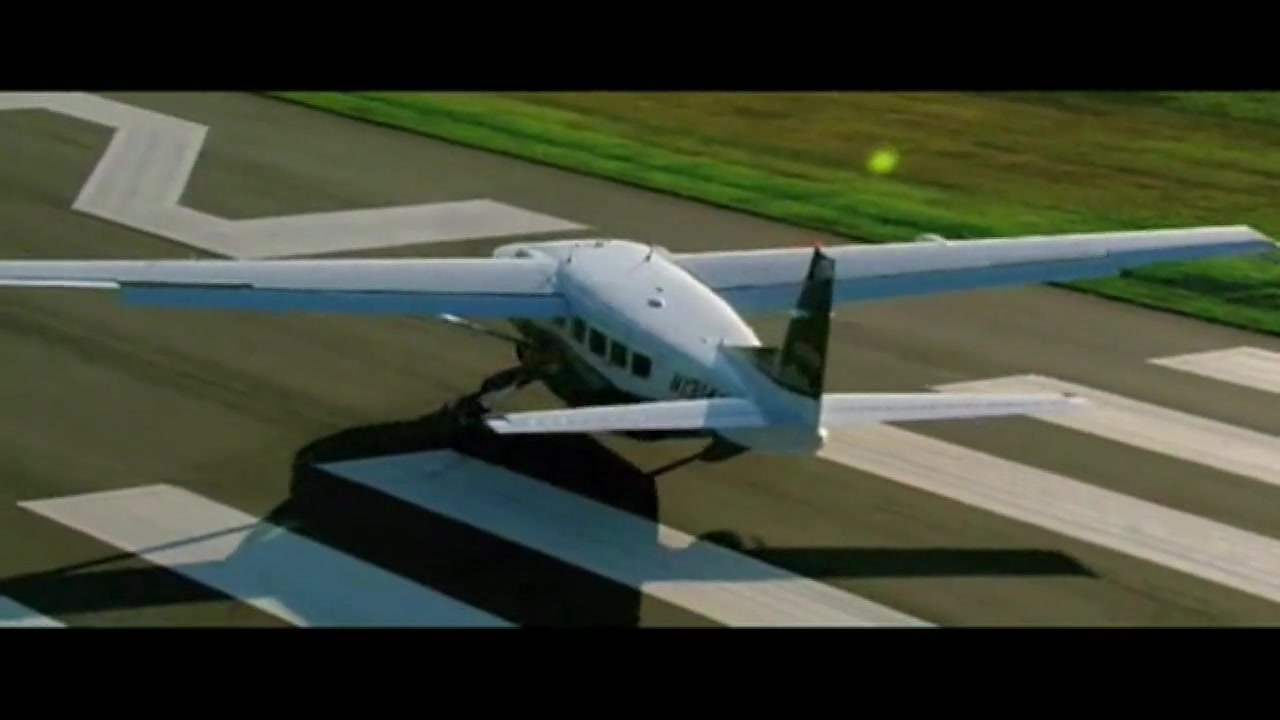aeroplane: (4, 222, 1280, 468)
